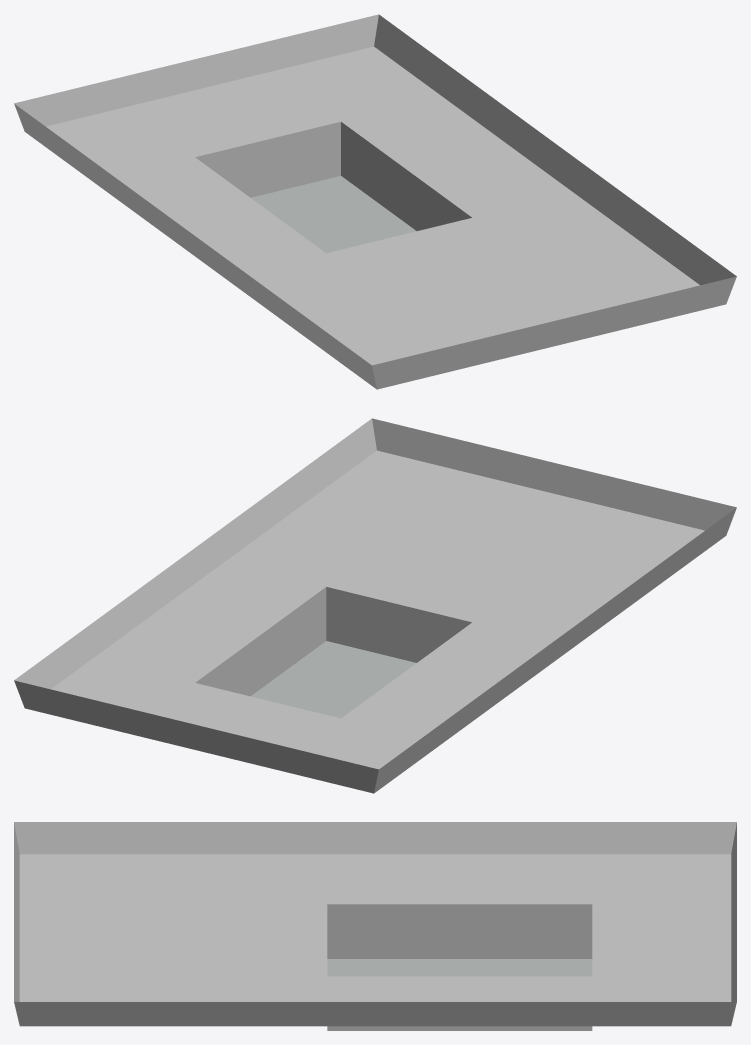
Rendered from pitpool.dae.
The picture shows the model from 3 angles, top to bottom: view 1: azimuth 30°, elevation 25°; view 2: azimuth 150°, elevation 25°; view 3: azimuth 270°, elevation 25°; orthographic projection.
Parts seen in each view (by area): view 1: node_pitpool; view 2: node_pitpool; view 3: node_pitpool.
Part boxes in pixels (x1=…): node_pitpool: x1=14, y1=14, x2=736, y2=389; node_pitpool: x1=14, y1=418, x2=736, y2=793; node_pitpool: x1=14, y1=822, x2=736, y2=1030.
Size of the model in its own units: 72.16 by 15.55 by 123.
